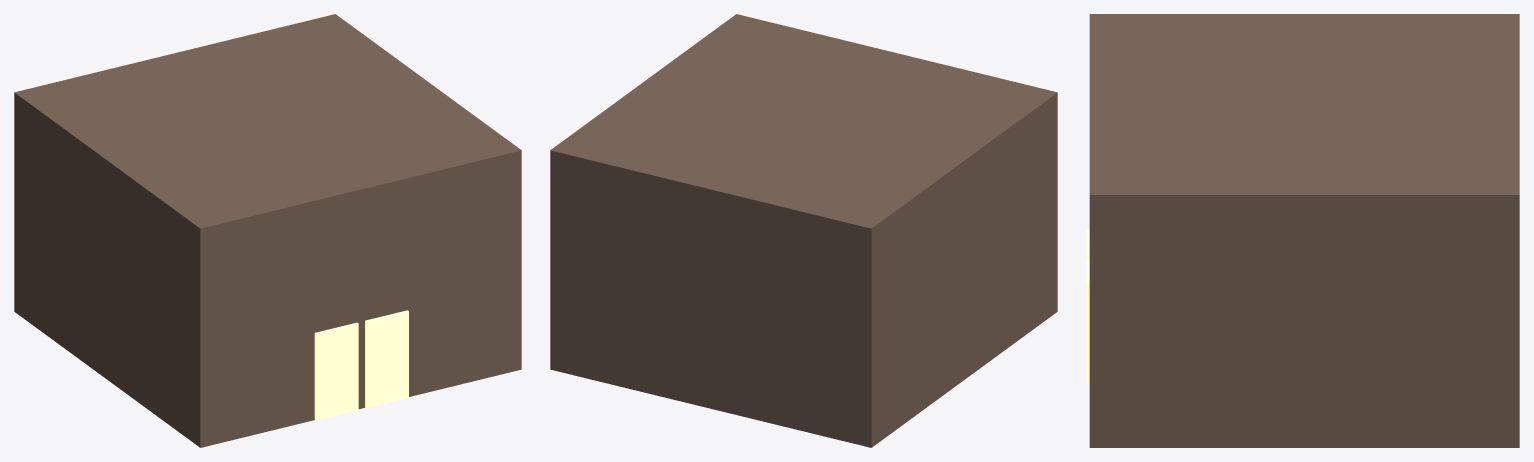
The picture shows the model from 3 angles, left to right: view 1: azimuth 30°, elevation 25°; view 2: azimuth 150°, elevation 25°; view 3: azimuth 270°, elevation 25°; orthographic projection. The views are drawn at different scales.
Parts seen in each view (by area): view 1: Cube.028, Cube.001, Cube; view 2: Cube.028; view 3: Cube.028, Cube.
Part boxes in pixels (x1=…): Cube.028: x1=14, y1=14, x2=521, y2=447; Cube.001: x1=314, y1=322, x2=358, y2=420; Cube: x1=365, y1=310, x2=408, y2=407; Cube.028: x1=550, y1=14, x2=1057, y2=447; Cube.028: x1=1089, y1=14, x2=1519, y2=447; Cube: x1=1086, y1=259, x2=1089, y2=382.
Size of the model in its own units: 12.41 by 8.1 by 12.56.
